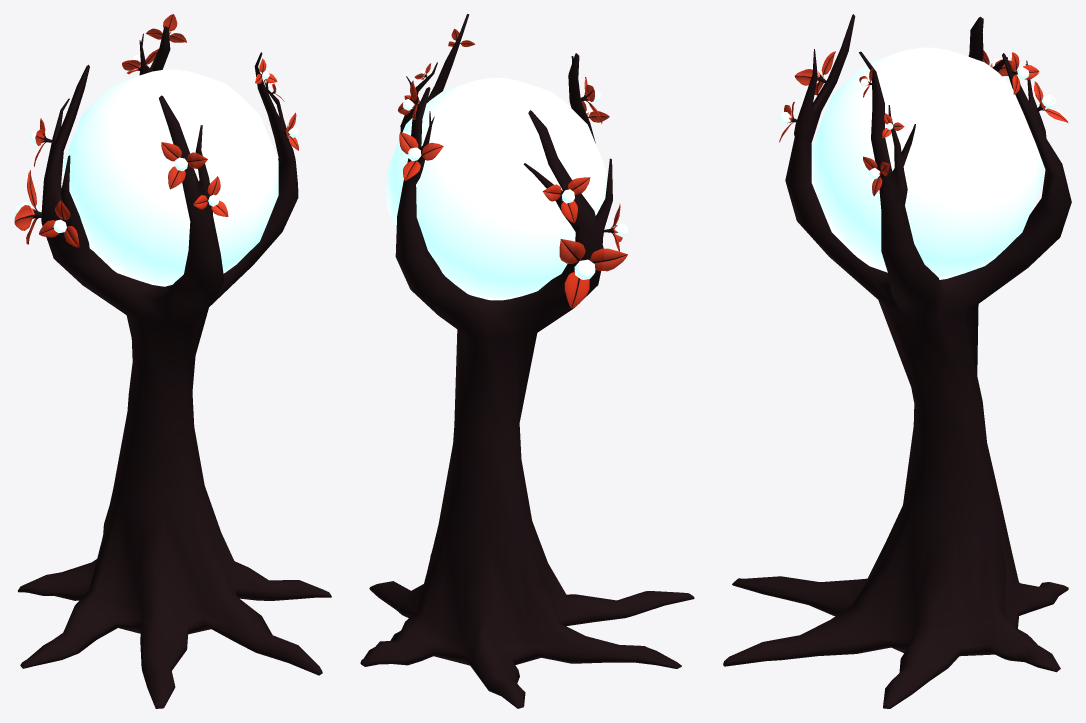
Rendered from Tree_01_merged_flowers.fbx.
3 renders of one model, left to right at view 1: azimuth 30°, elevation 25°; view 2: azimuth 150°, elevation 25°; view 3: azimuth 270°, elevation 25°, orthographic. The views are drawn at different scales.
Visible parts, largest first — view 1: Tree_01_merged_flowers; view 2: Tree_01_merged_flowers; view 3: Tree_01_merged_flowers.
Boxes of the visible parts, left/top/right/bottom form: Tree_01_merged_flowers: left=14, top=14, right=331, bottom=708; Tree_01_merged_flowers: left=360, top=14, right=694, bottom=708; Tree_01_merged_flowers: left=723, top=14, right=1071, bottom=708.
Size of the model in its own units: 831 by 762 by 1487.
